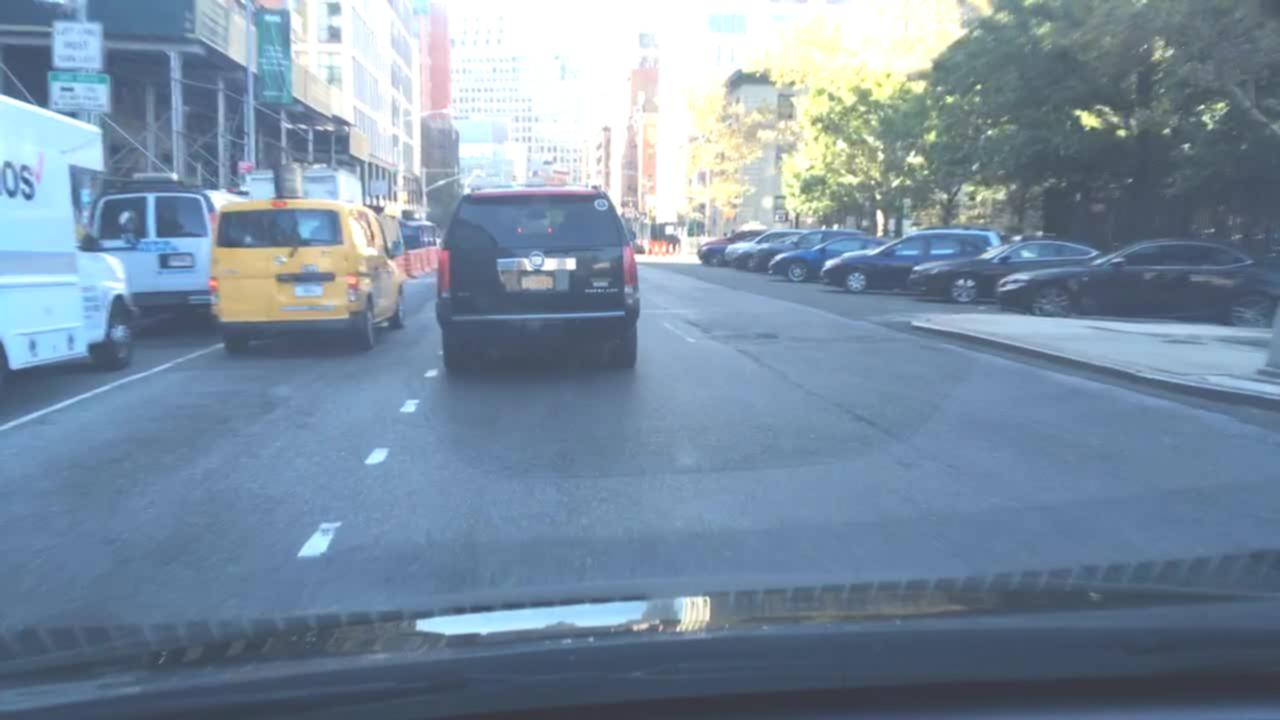cadillac: (523, 249, 552, 270)
